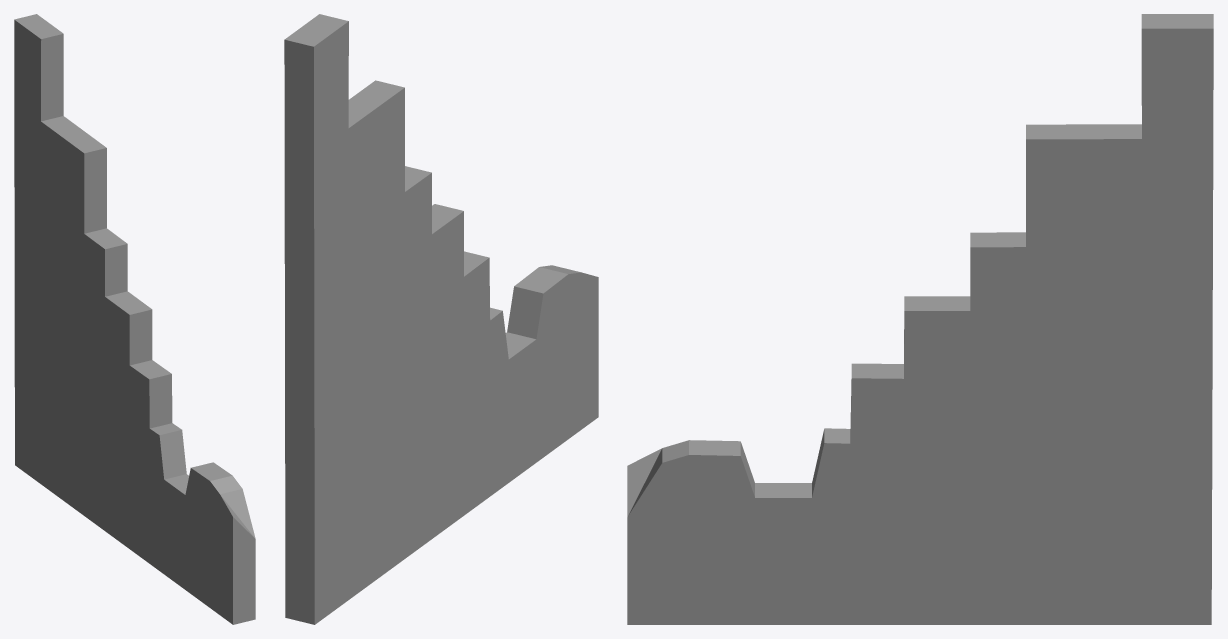
Rendered from wall_7.fbx.
3 views of the same model, side by side, from view 1: azimuth 30°, elevation 25°; view 2: azimuth 150°, elevation 25°; view 3: azimuth 270°, elevation 25° (orthographic). The views are drawn at different scales.
Visible parts, largest first — view 1: Object.021; view 2: Object.021; view 3: Object.021.
Part boxes in pixels (x1,y1,x2,y2): Object.021: [14, 14, 255, 624]; Object.021: [284, 14, 598, 624]; Object.021: [627, 14, 1213, 624].
Size of the model in its own units: 60 by 1129 by 1006.
